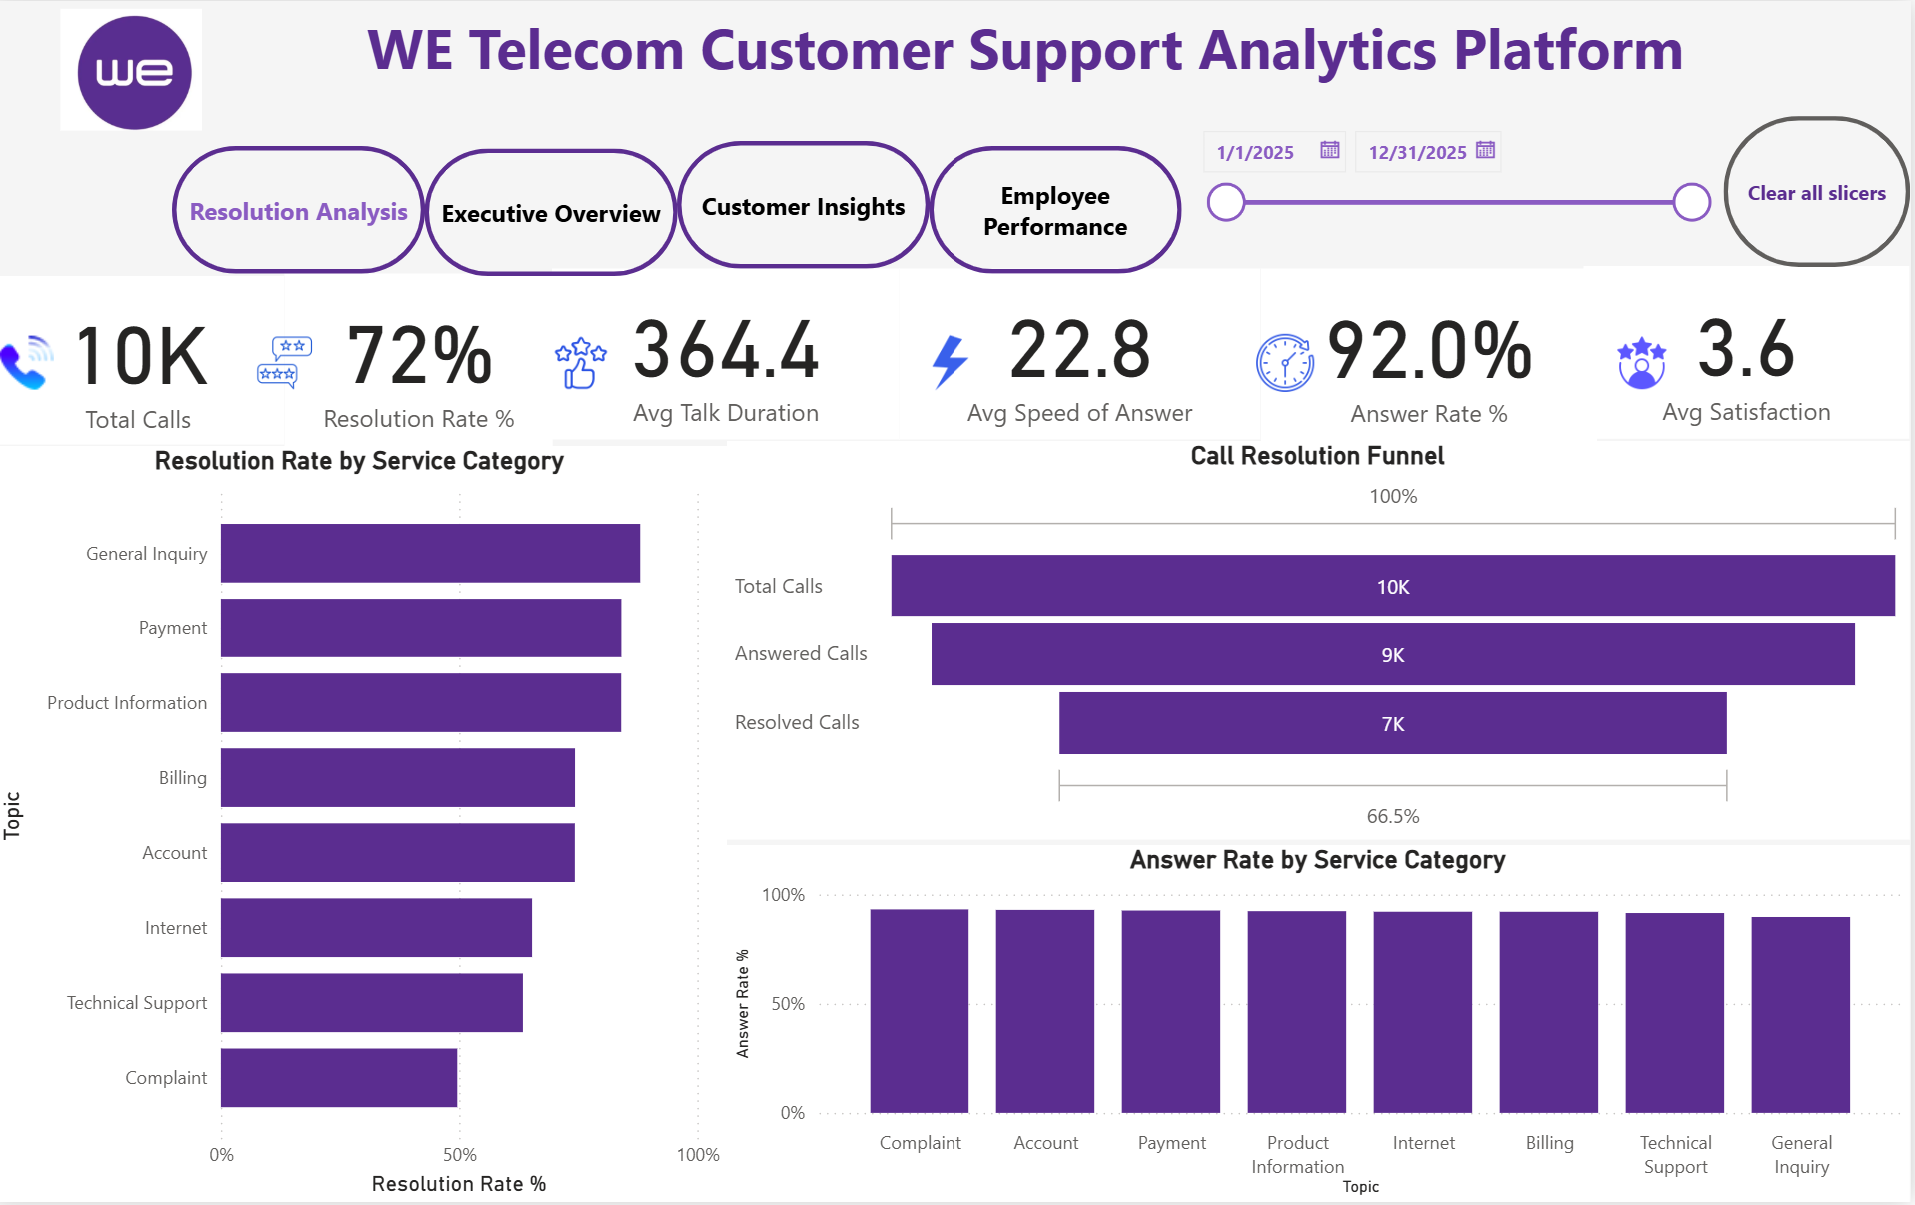

The dashboard page shown, as its layout file describes it:
{"tool":"powerbi","page":{"name":" Resolution Analysis","canvas":[1280,801],"ordinal":2},"visuals":[{"type":"card","fields":{"Values":["Measure.Total Calls"]},"box":[0,184.1,194.7,112.6],"z":0},{"type":"card","fields":{"Values":["Measure.Avg Satisfaction"]},"box":[1062.2,177.5,217.2,115.2],"z":1000},{"type":"card","fields":{"Values":["Measure.Avg Speed of Answer"]},"box":[605.3,178.8,241,113.9],"z":2000},{"type":"card","fields":{"Values":["Measure.Avg Talk Duration"]},"box":[373.5,178.8,231.8,113.9],"z":3000},{"type":"image","box":[0,215.9,46.4,49],"z":4000},{"type":"image","box":[361.6,215.9,62.2,49],"z":5000},{"type":"image","box":[1070.1,215.9,60.9,49],"z":6000},{"type":"image","box":[607.9,215.9,62.2,49],"z":7000},{"type":"card","fields":{"Values":["Measure.Answer Rate %"]},"box":[846.3,178.8,223.8,115.2],"z":8000},{"type":"image","box":[835.7,215.9,55.6,49],"z":9000},{"type":"card","fields":{"Values":["Measure.Resolution Rate %"]},"box":[194.7,181.4,178.8,115.2],"z":10000},{"type":"image","box":[162.9,215.9,63.6,49],"z":11000},{"type":"actionButton","box":[1154.9,76.8,124.5,100.7],"z":12000},{"type":"textbox","box":[100.7,0,1178.7,76.8],"z":13000},{"type":"image","box":[0,0,185.4,91.4],"z":14000},{"type":"barChart","title":"Resolution Rate by Service Category","fields":{"Category":["Calls.Topic"],"Y":["Measure.Resolution Rate %"]},"box":[0,296.7,490,504.6],"z":15000},{"type":"columnChart","title":"Answer Rate by Service Category","fields":{"Category":["Calls.Topic"],"Y":["Measure.Answer Rate %"]},"box":[490,562.9,789.3,238.4],"z":16000},{"type":"funnel","title":"Call Resolution Funnel","fields":{"Y":["Measure.Total Calls","Measure.Answered Calls","Measure.Resolved Calls"]},"box":[490,292.7,789.3,266.2],"z":17000},{"type":"actionButton","box":[288.2,98.8,168.8,85.1],"z":18000},{"type":"actionButton","box":[119.4,96.1,168.8,85.1],"z":19000},{"type":"actionButton","box":[456.9,93.3,168.8,85.1],"z":20000},{"type":"actionButton","box":[625.7,96.1,168.8,85.1],"z":21000},{"type":"slicer","fields":{"Values":["Calls.Date"]},"box":[794.3,77.1,360,97.1],"z":22000}]}

Visuals, with their boxes in screenshot pixels (x1, y1, x2, y2), scaled from the page's 1280x801 canvas onto the 1915x1205 screenshot:
card - Measure.Total Calls: <box>0,277,291,446</box>
card - Measure.Avg Satisfaction: <box>1589,267,1914,440</box>
card - Measure.Avg Speed of Answer: <box>906,269,1266,440</box>
card - Measure.Avg Talk Duration: <box>559,269,906,440</box>
image: <box>0,325,69,399</box>
image: <box>541,325,634,399</box>
image: <box>1601,325,1692,399</box>
image: <box>909,325,1003,399</box>
card - Measure.Answer Rate %: <box>1266,269,1601,442</box>
image: <box>1250,325,1333,399</box>
card - Measure.Resolution Rate %: <box>291,273,559,446</box>
image: <box>244,325,339,399</box>
actionButton: <box>1728,116,1914,267</box>
textbox: <box>151,0,1914,116</box>
image: <box>0,0,277,137</box>
"Resolution Rate by Service Category" barChart: <box>0,446,733,1204</box>
"Answer Rate by Service Category" columnChart: <box>733,847,1914,1204</box>
"Call Resolution Funnel" funnel: <box>733,440,1914,841</box>
actionButton: <box>431,149,684,277</box>
actionButton: <box>179,145,431,273</box>
actionButton: <box>684,140,936,268</box>
actionButton: <box>936,145,1189,273</box>
slicer - Calls.Date: <box>1188,116,1727,262</box>
